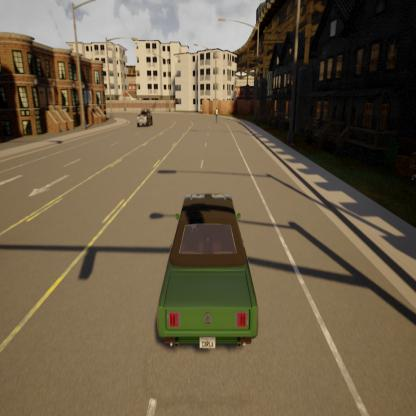Cars: (154, 190, 262, 363), (130, 105, 156, 128)
